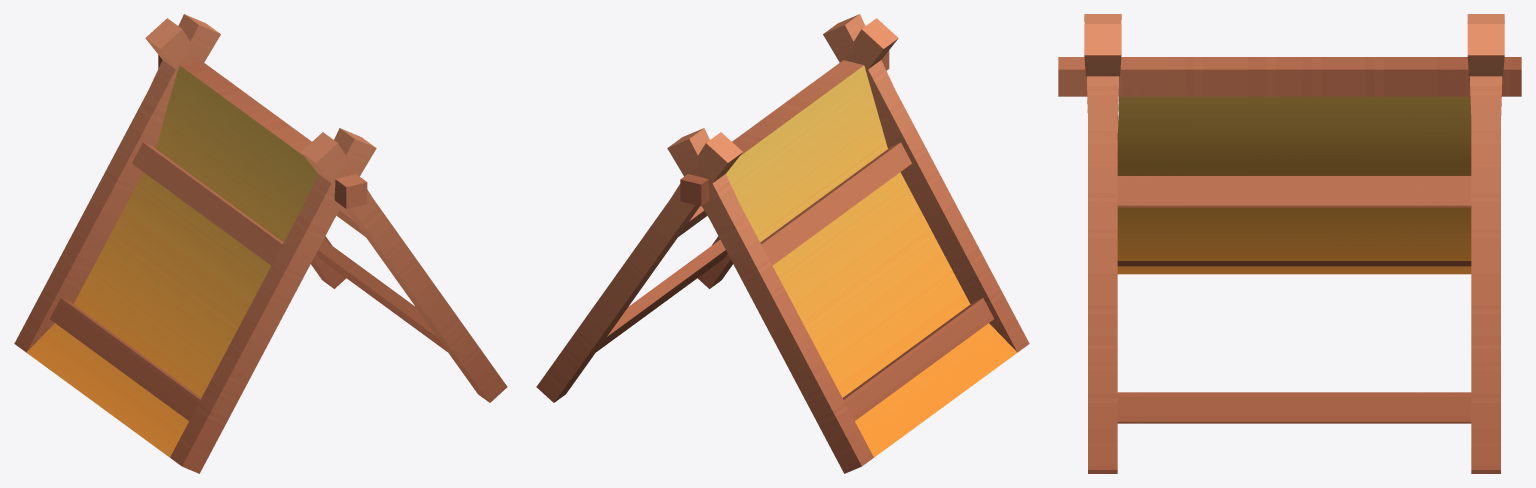
The model's file is tent-canvas-half.glb.
The picture shows the model from 3 angles, left to right: view 1: azimuth 30°, elevation 25°; view 2: azimuth 150°, elevation 25°; view 3: azimuth 270°, elevation 25°; orthographic projection. The views are drawn at different scales.
Parts seen in each view (by area): view 1: tent-canvas-half; view 2: tent-canvas-half; view 3: tent-canvas-half.
Boxes of the visible parts, x1,y1,x2,y2 form: tent-canvas-half: (14, 14, 507, 473); tent-canvas-half: (536, 14, 1029, 473); tent-canvas-half: (1058, 14, 1521, 473).
Size of the model in its own units: 0.5608 by 0.4914 by 0.561.
1 material, 1 textured.
